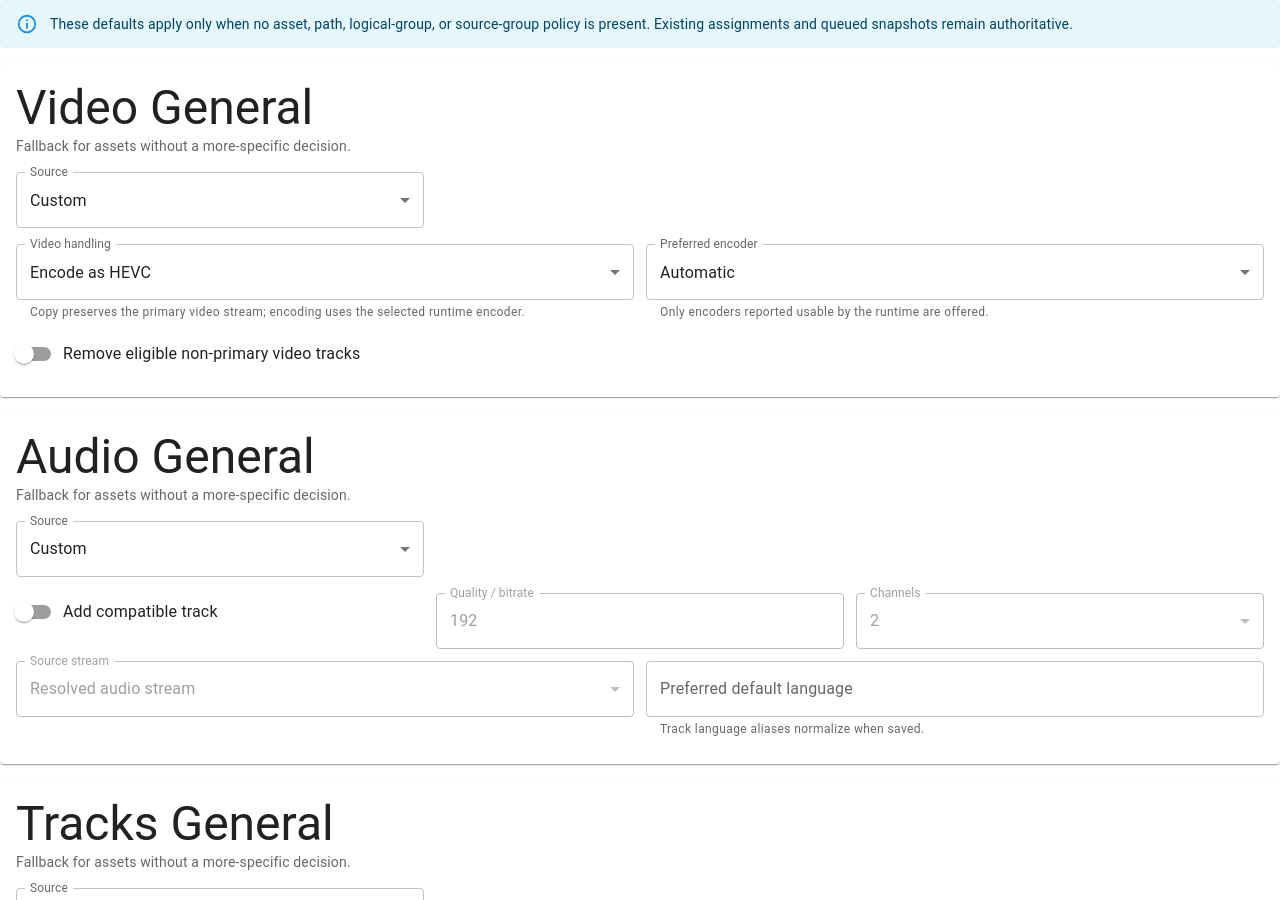
Test: AssetDefaultsCard › enables compatible track fields when Add compatible track is selected
The image size is (1280, 900).
Click the switch labelled "Add compatible track": (116, 612) 14,602 -> 218,622
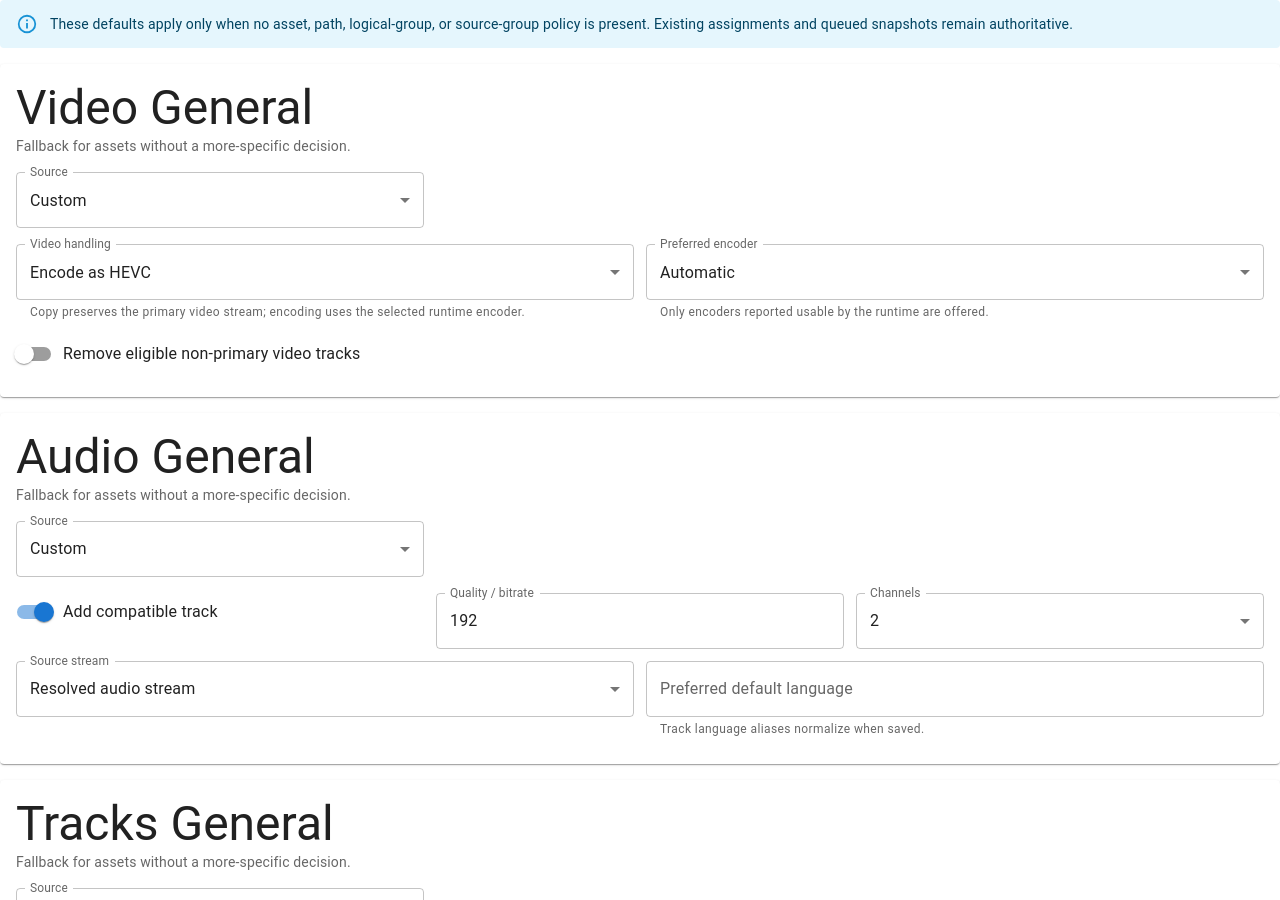
Expected: the number field labelled "Quality / bitrate" is enabled, 436,593 -> 844,649
